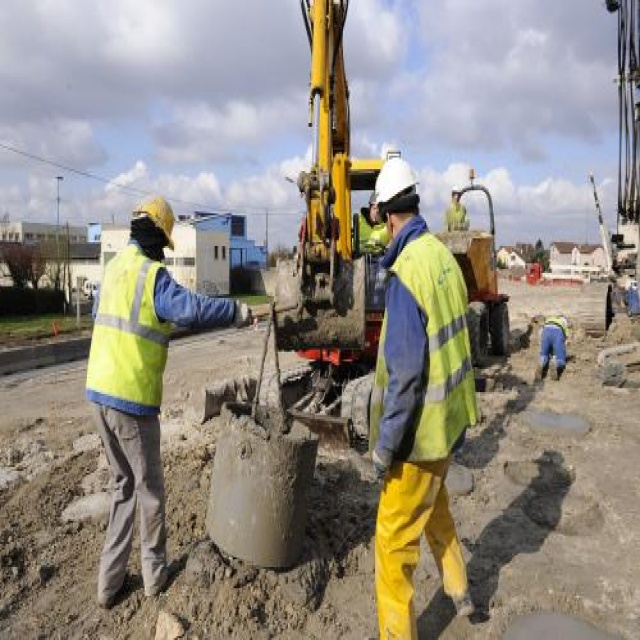Helmet: (353, 143, 436, 248), (116, 176, 193, 270)
Reflective vest: (377, 232, 479, 462), (88, 245, 177, 416)
